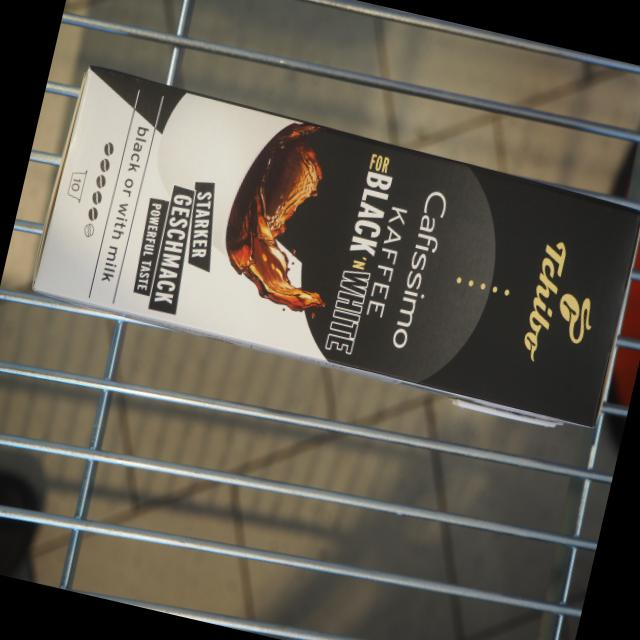Simo Kaffee BW: (25, 58, 640, 437)
